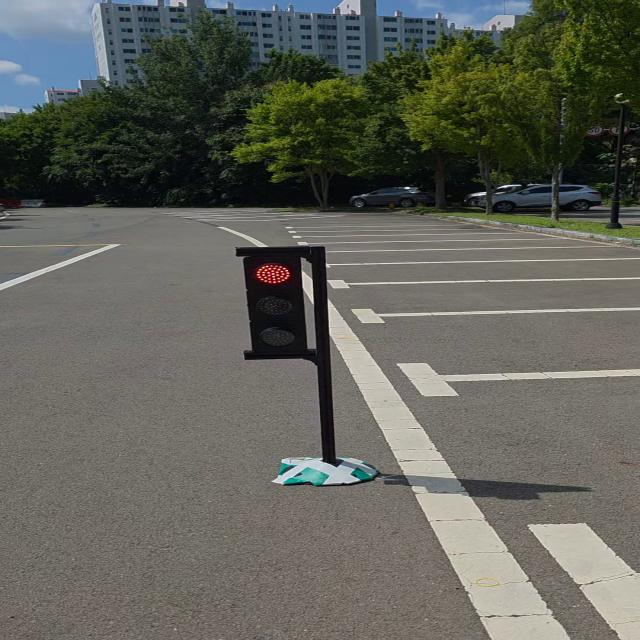red: (237, 246, 320, 356)
